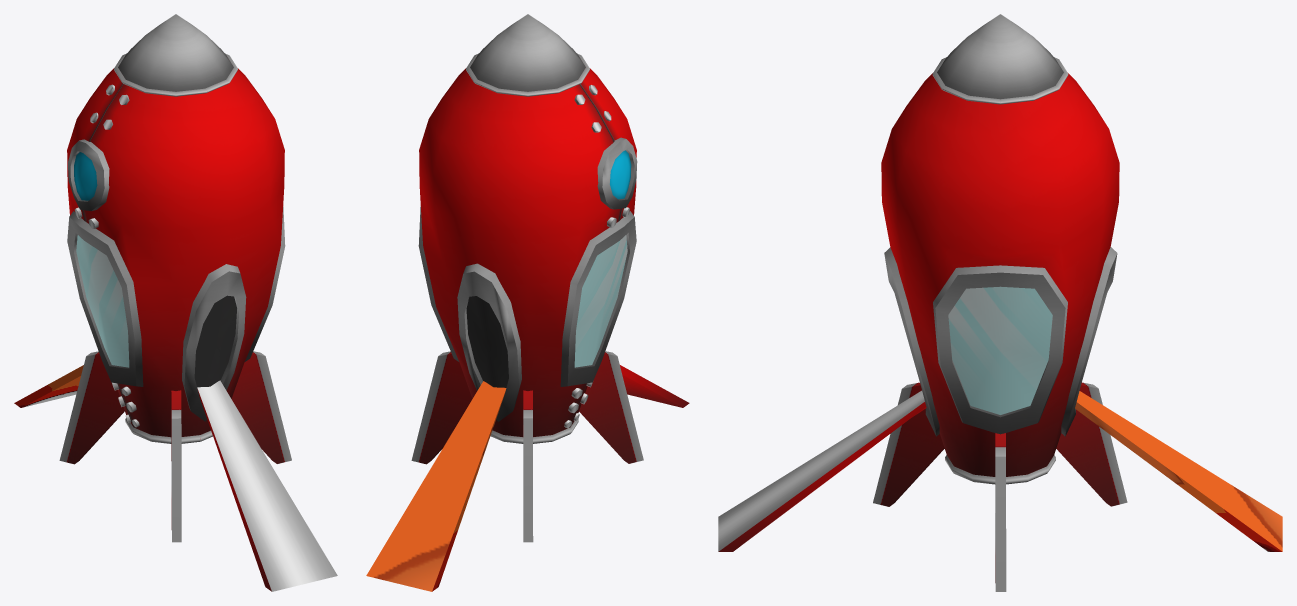
The model's file is RocketPass.FBX.
3 renders of one model, left to right at view 1: azimuth 30°, elevation 25°; view 2: azimuth 150°, elevation 25°; view 3: azimuth 270°, elevation 25°, orthographic. The views are drawn at different scales.
Visible parts, largest first — view 1: Rocket, RocketRamp, RocketRamp001; view 2: Rocket, RocketRamp001, RocketRamp; view 3: Rocket, RocketRamp001, RocketRamp.
Part boxes in pixels (x1,y1,x2,y2): Rocket: [59, 14, 291, 542]; RocketRamp: [197, 380, 337, 591]; RocketRamp001: [14, 365, 83, 407]; Rocket: [411, 14, 643, 542]; RocketRamp001: [366, 381, 506, 591]; RocketRamp: [620, 365, 689, 407]; Rocket: [873, 14, 1127, 591]; RocketRamp001: [1075, 391, 1282, 551]; RocketRamp: [718, 390, 926, 551].
Bounding box in the file's own units: 2.2 × 4.7 × 4.62.
